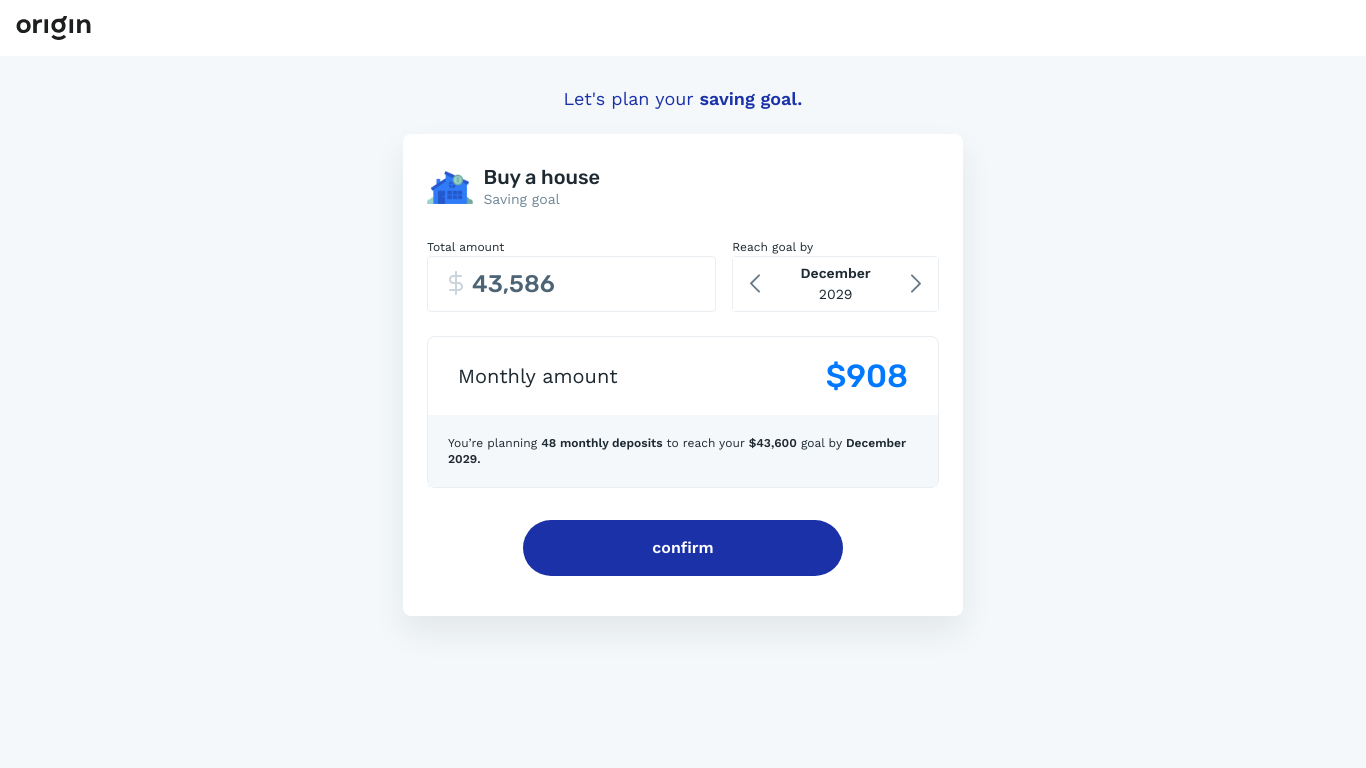
Test: Home Buy a house › Calculate correct value when change goal date › Should calculte correct value when decrese months
Replace the text in the field with test id "input-total-amount" with "600000". click: [572, 284]
box: [427,256,716,312]
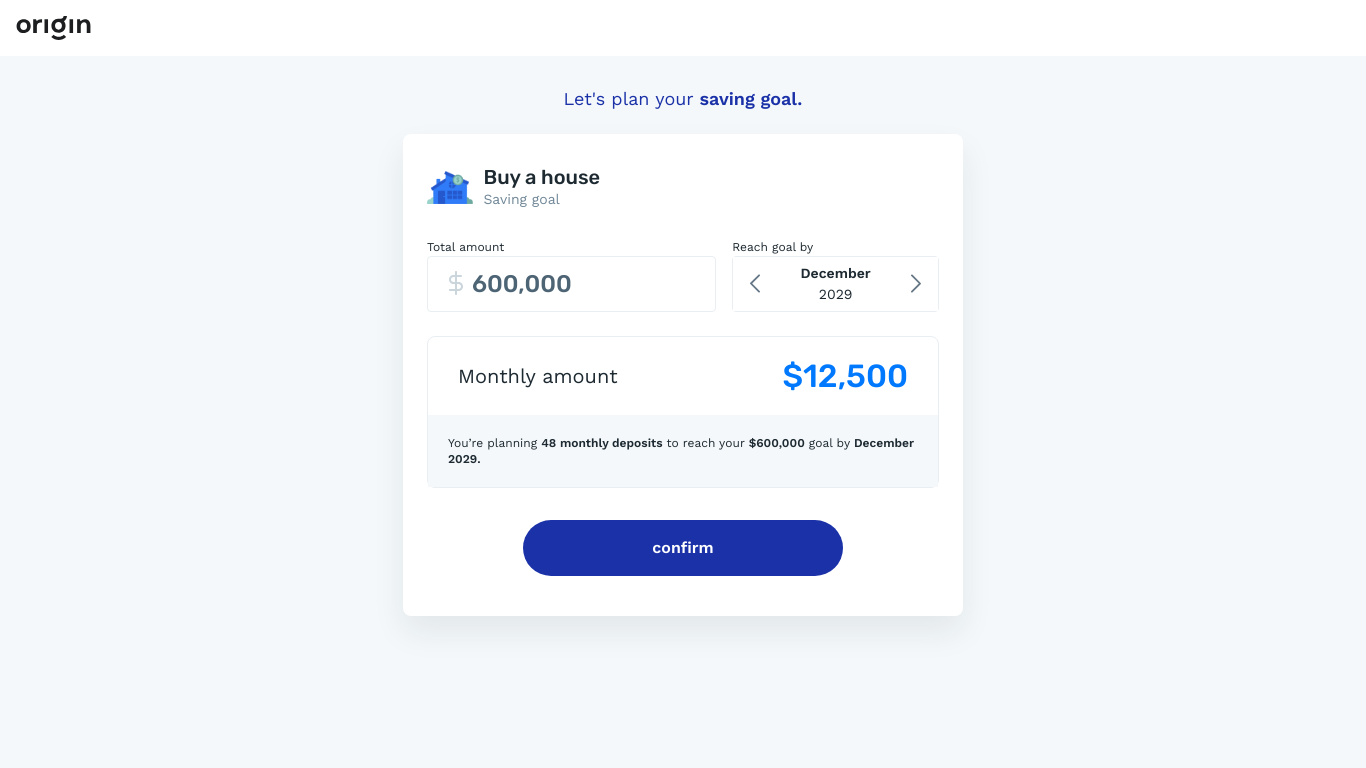
Click the button with test id "decrese-button". click: [755, 284]
box: [733,257,777,311]
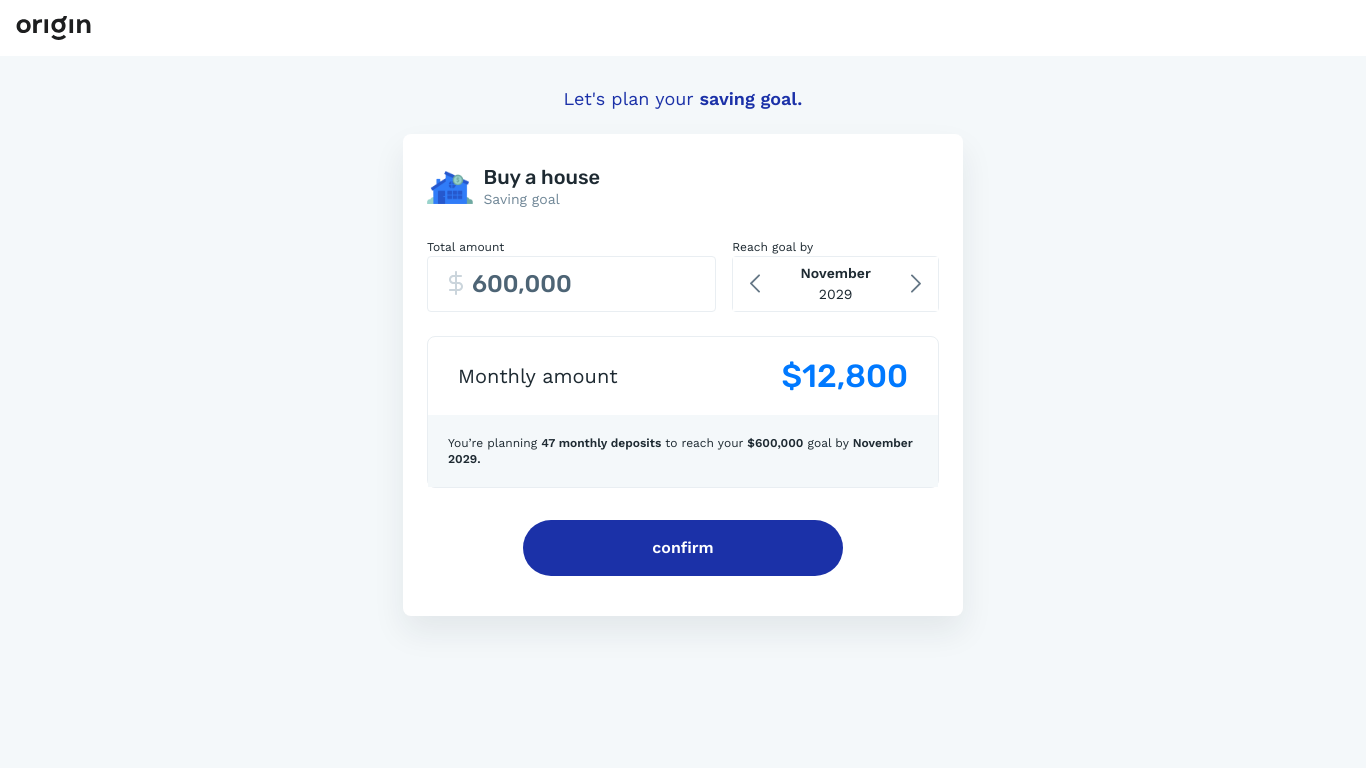
Result: the text with test id "goal-value" reads "$600,000" at [747,436,803,450]
Result: the text with test id "monthly-amount" reads "$12,800" at [782,357,909,395]
Double-click the button with test id "decrese-button" at [755, 284], box [733,257,777,311]
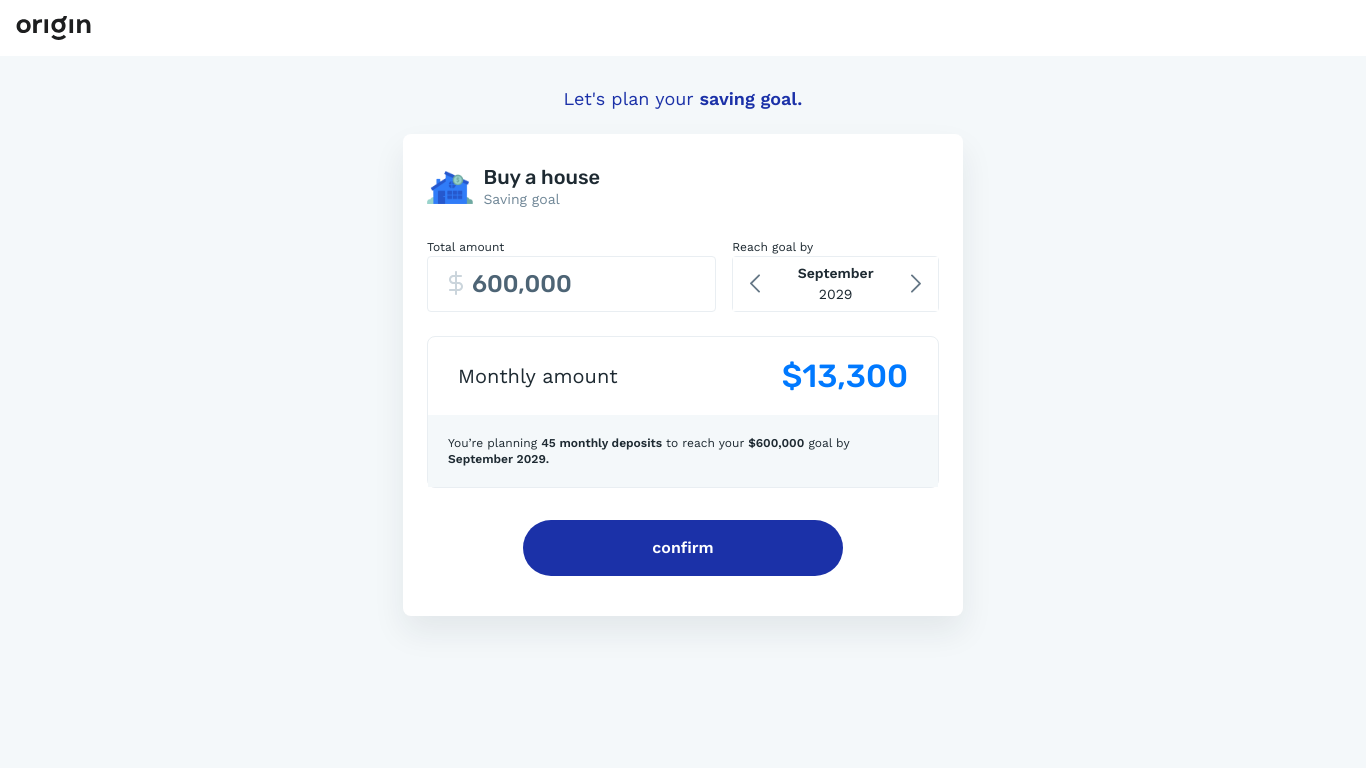
Result: the text with test id "monthly-amount" reads "$13,300" at [782,357,908,395]
